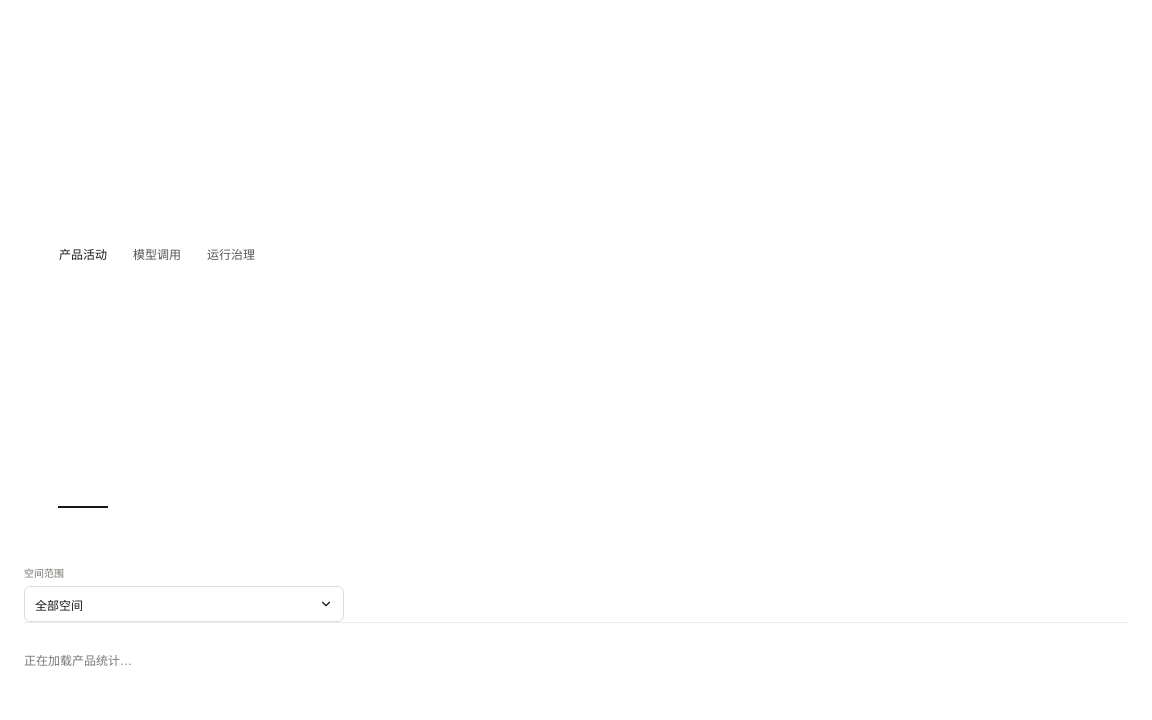
AnalyticsPage › queries 30 days and presents usage, quality, speed and estimated cost
The width and height of the screenshot is (1152, 720).
What coordinates should you click on to do the following:
click the tab "模型调用"
I would click on:
 (157, 254)
Its box is [132,0,182,509].
(page scrolled)
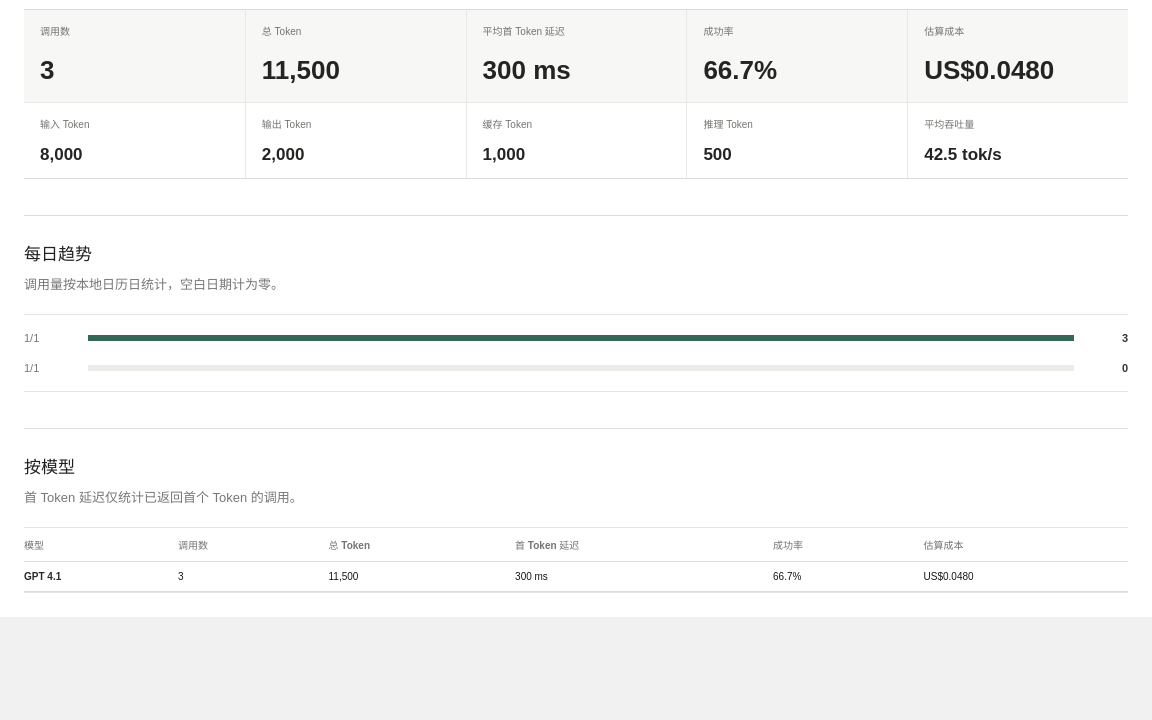
Result: the text "3" below "平均首 Token 延迟" is shown at [40,55,54,85]
Result: the text "11,500" is shown at [262,55,340,85]
Result: the text "8,000" is shown at [40,145,82,164]
